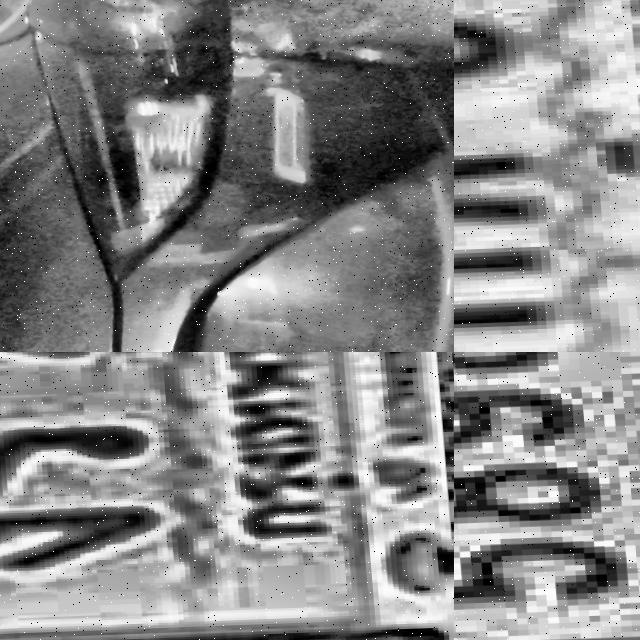license-plate: (0, 352, 450, 640), (454, 0, 640, 352), (454, 352, 640, 640)
